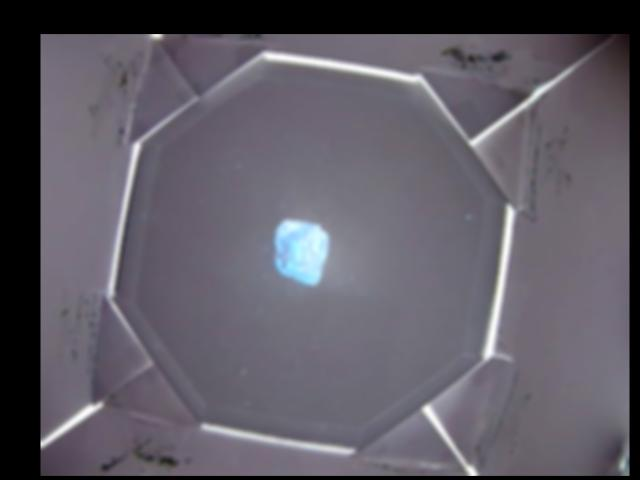Brisk: (275, 220, 325, 285)
